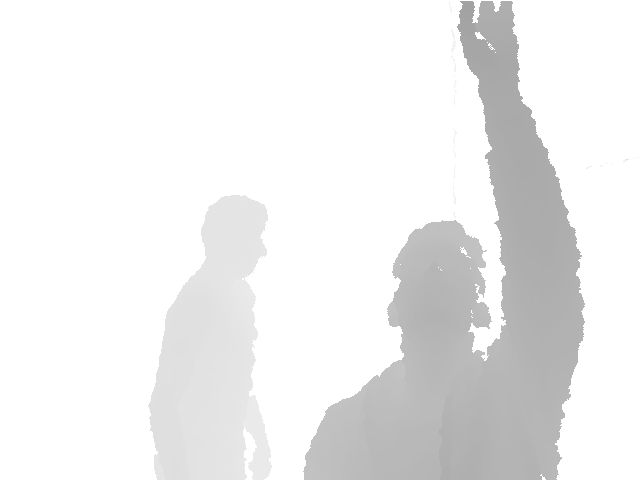hand: (457, 2, 522, 94)
head: (386, 220, 492, 354), (200, 194, 267, 278)
person: (301, 2, 586, 480), (148, 194, 274, 480)
